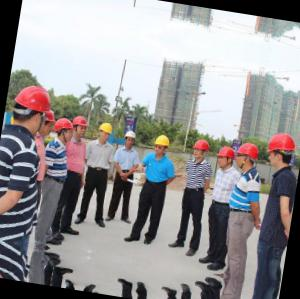helmet: (9, 82, 56, 134), (264, 131, 300, 172), (235, 140, 261, 172), (38, 107, 59, 140), (55, 118, 76, 145), (191, 137, 213, 161), (152, 132, 172, 157), (216, 145, 236, 170), (97, 121, 117, 144), (73, 114, 91, 139), (123, 125, 140, 148)
